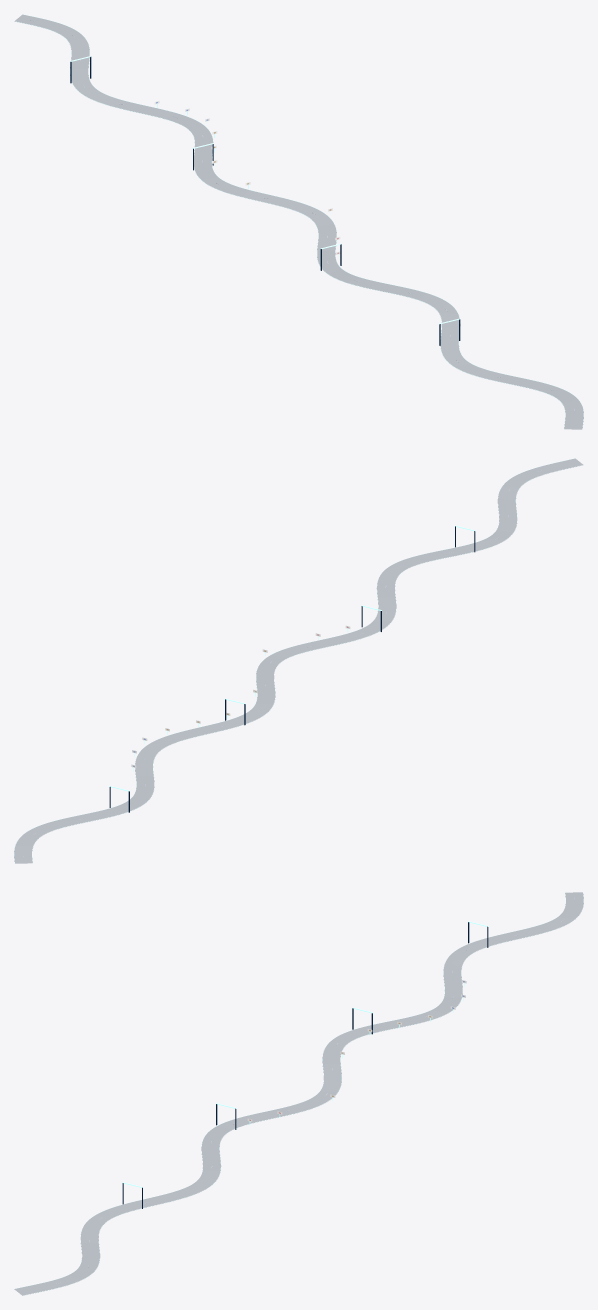
The model's file is estrada.glb.
3 renders of one model, top to bottom at view 1: azimuth 30°, elevation 25°; view 2: azimuth 150°, elevation 25°; view 3: azimuth 330°, elevation 25°, orthographic. The views are drawn at different scales.
Bounding box in the file's own units: 11.55 × 3.93 × 169.
Materials: 14 (10 with a texture image).
